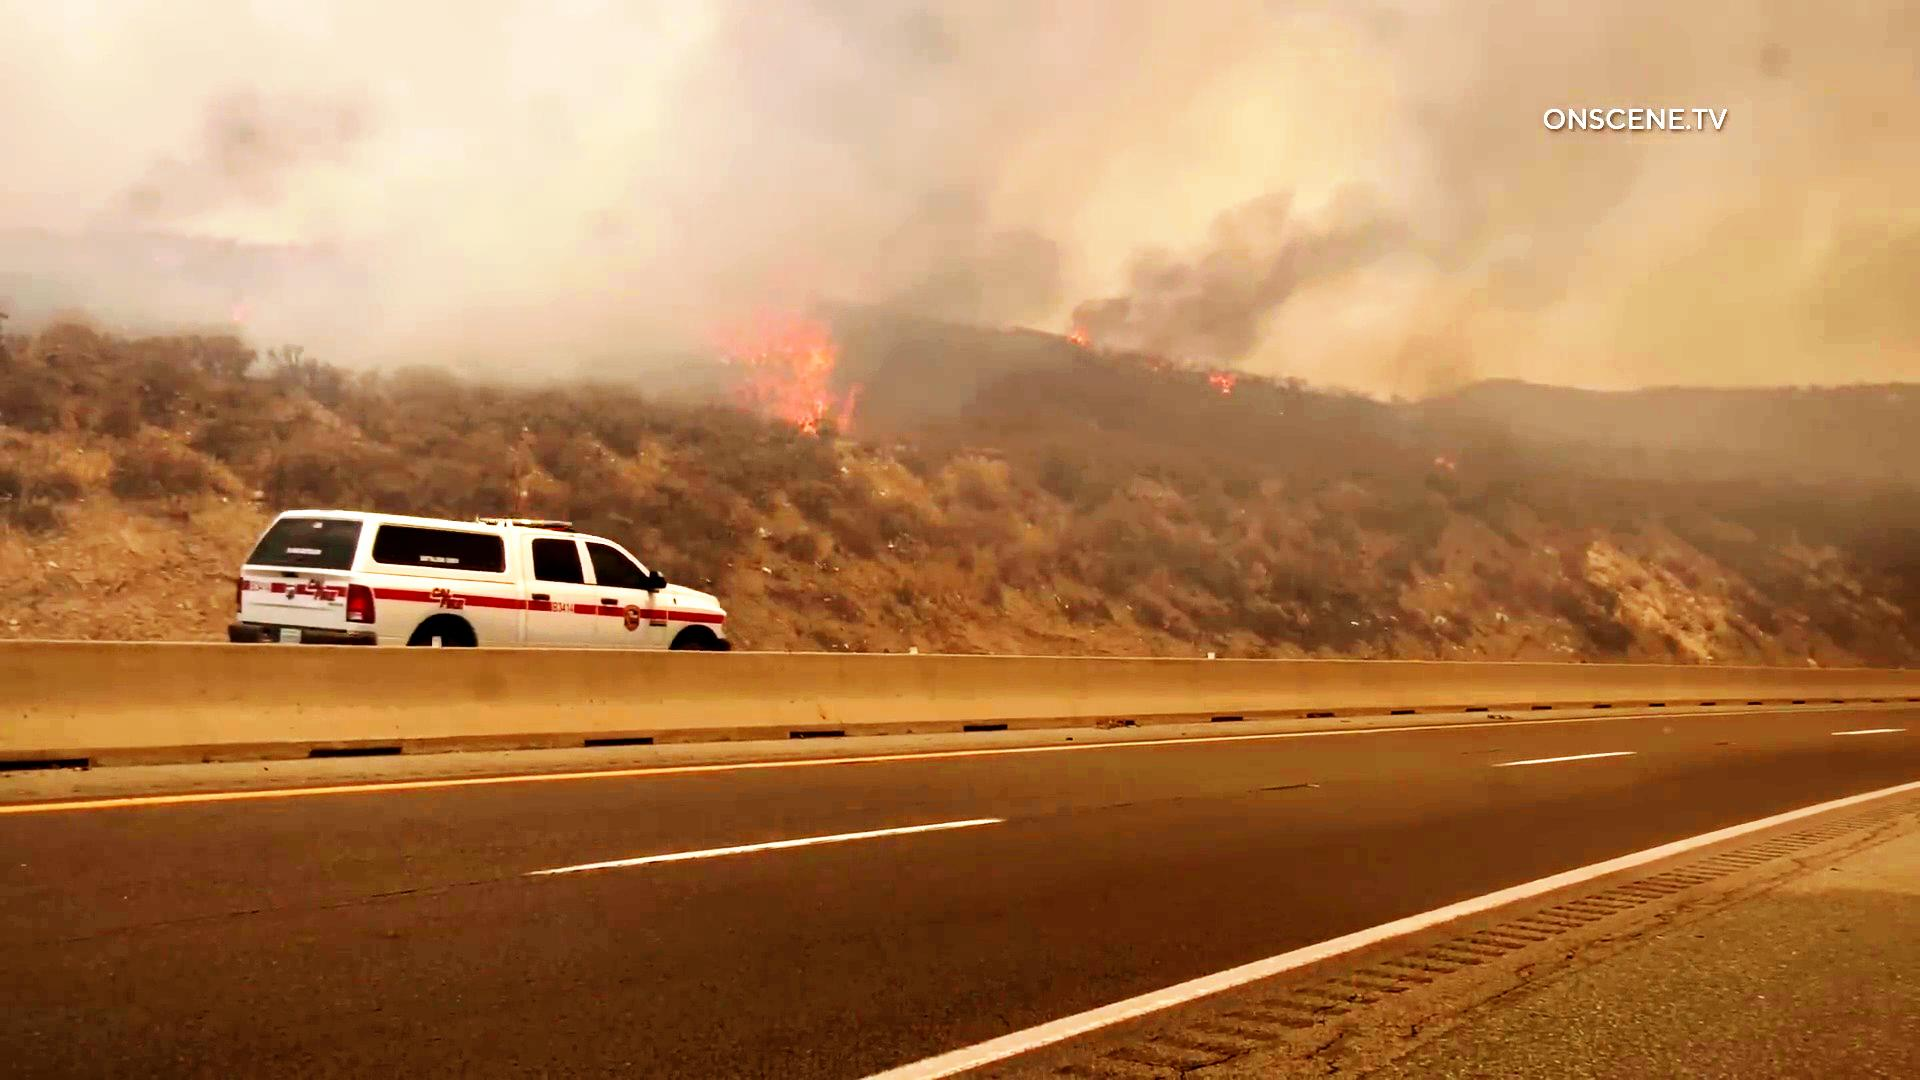fire: (733, 310, 868, 452)
